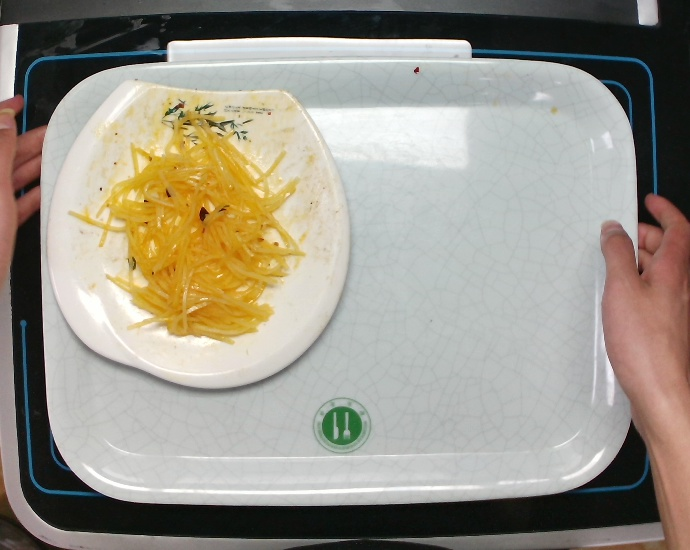JYsf-Mian_Pan: (41, 74, 356, 395)
